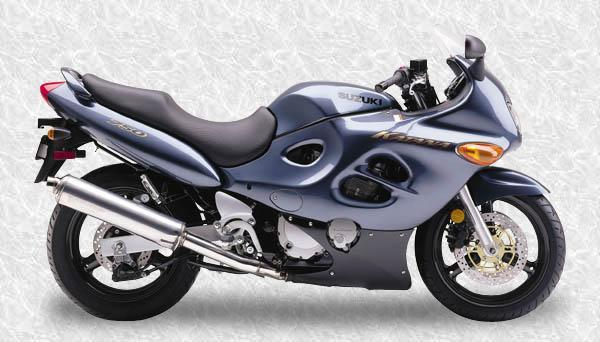motorcycle: (25, 1, 592, 336)
